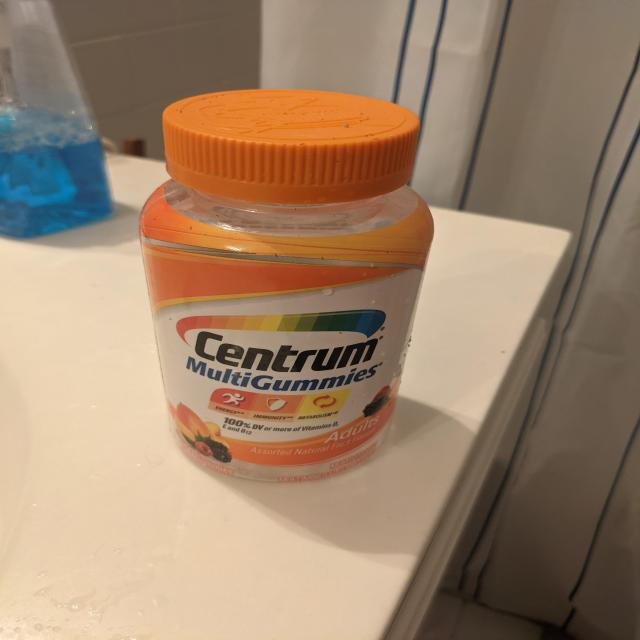litter: (113, 67, 469, 510), (4, 4, 127, 254)
